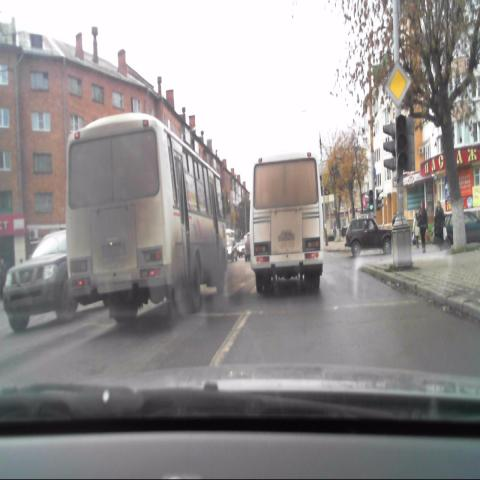2_1: (384, 62, 412, 109)
